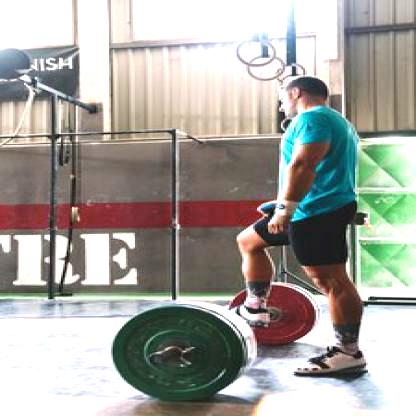Barbell: (141, 346, 173, 374)
